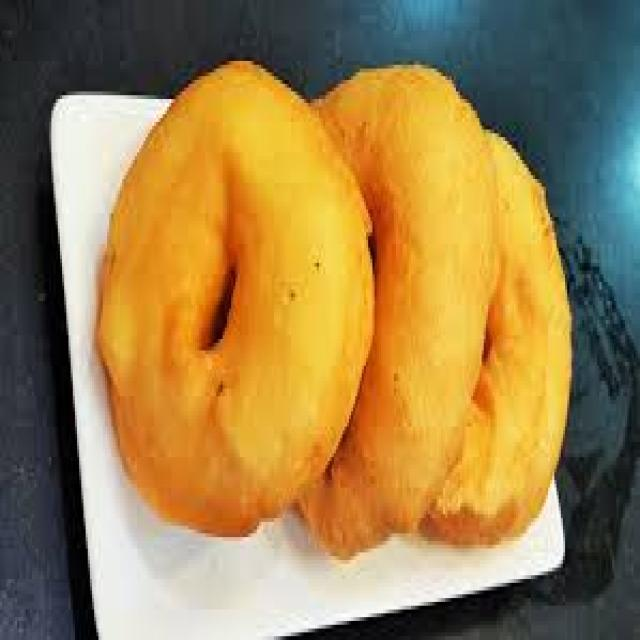MEDU VADA: (96, 61, 372, 530), (300, 69, 494, 552), (422, 130, 569, 537)
